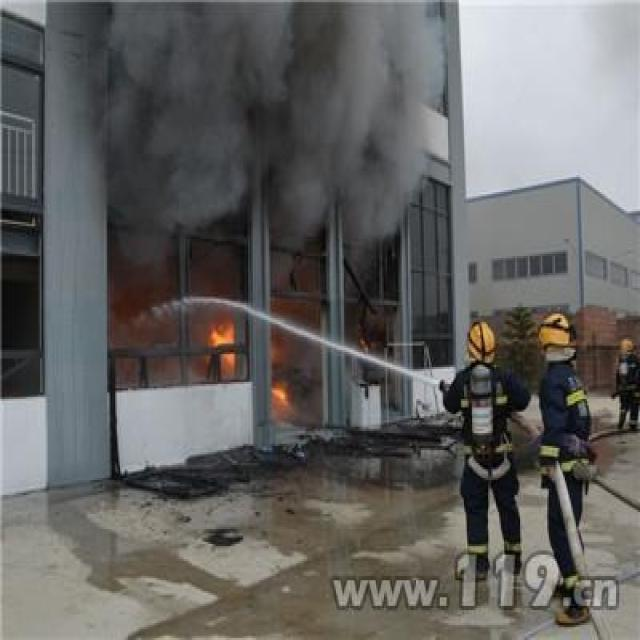Fire: (194, 296, 242, 378), (270, 365, 296, 416)
Smoke: (110, 6, 253, 248), (337, 2, 434, 301), (269, 0, 328, 289)
